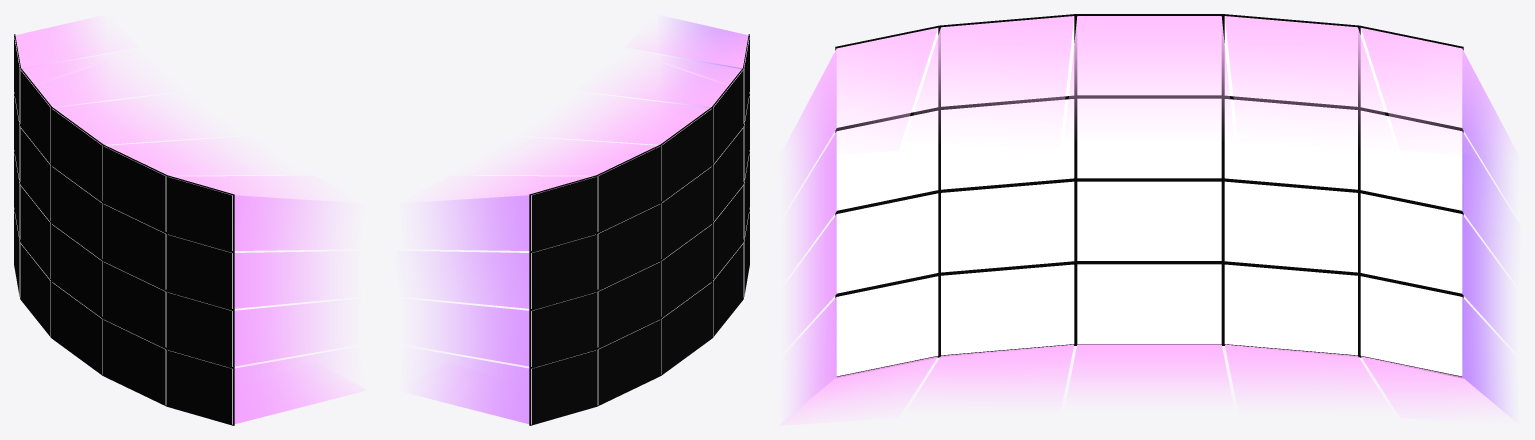
The picture shows the model from 3 angles, left to right: view 1: azimuth 30°, elevation 25°; view 2: azimuth 150°, elevation 25°; view 3: azimuth 270°, elevation 25°; orthographic projection. The views are drawn at different scales.
Visible parts, largest first — view 1: Cylinder; view 2: Cylinder; view 3: Cylinder.
Boxes of the visible parts, x1,y1,x2,y2 form: Cylinder: [14, 17, 365, 425]; Cylinder: [413, 17, 749, 425]; Cylinder: [779, 14, 1513, 425].
Bounding box in the file's own units: 3.8 × 5.2 × 10.56.
Materials: 3 (1 with a texture image).
